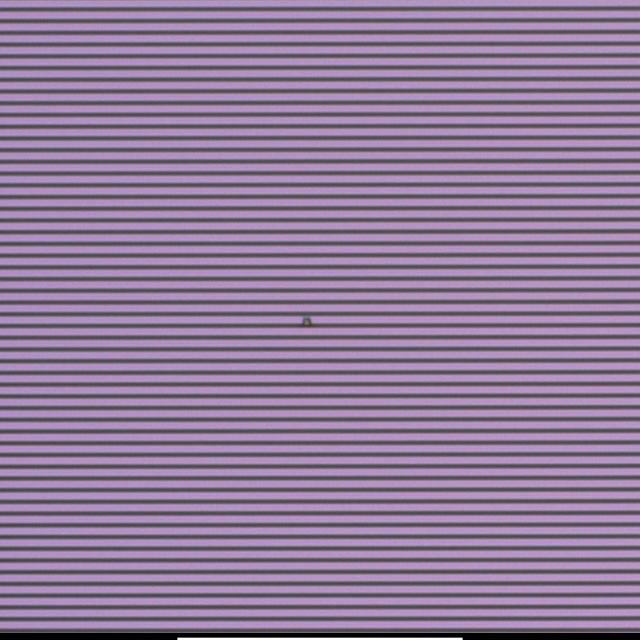03_intrusion: (291, 310, 319, 333)
